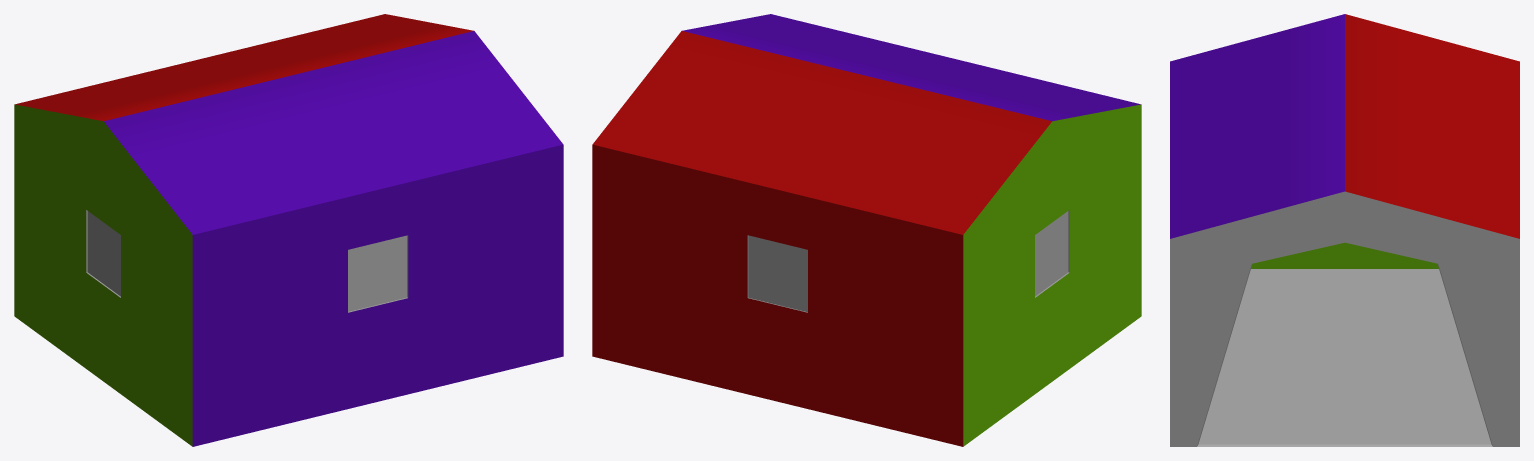
The model's file is TentWithWindows.fbx.
3 views of the same model, side by side, from view 1: azimuth 30°, elevation 25°; view 2: azimuth 150°, elevation 25°; view 3: azimuth 270°, elevation 25° (orthographic).
Parts seen in each view (by area): view 1: tentWithWindows; view 2: tentWithWindows; view 3: tentWithWindows.
Part boxes in pixels (bbox=[...]): tentWithWindows: bbox=[14, 14, 563, 446]; tentWithWindows: bbox=[592, 14, 1141, 446]; tentWithWindows: bbox=[1170, 14, 1519, 446].
Bounding box in the file's own units: 3.7 × 2.48 × 3.08.
